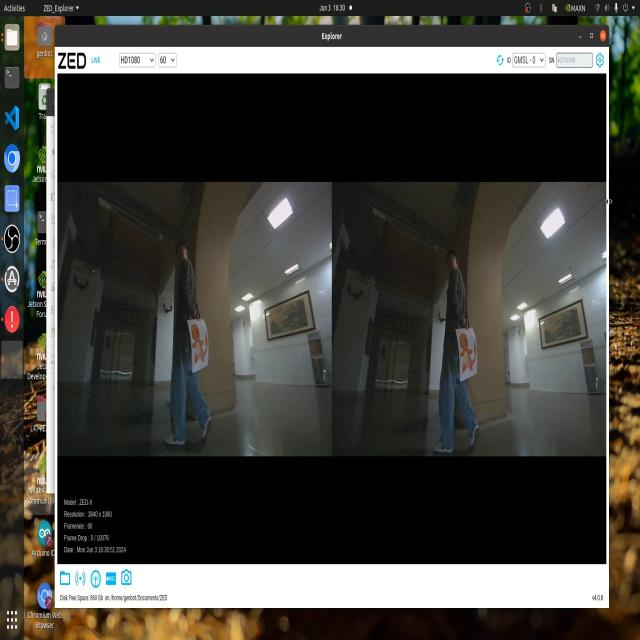red: (454, 326, 478, 386), (187, 325, 211, 370)
